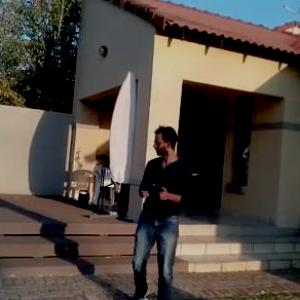follow: (121, 123, 193, 299)
